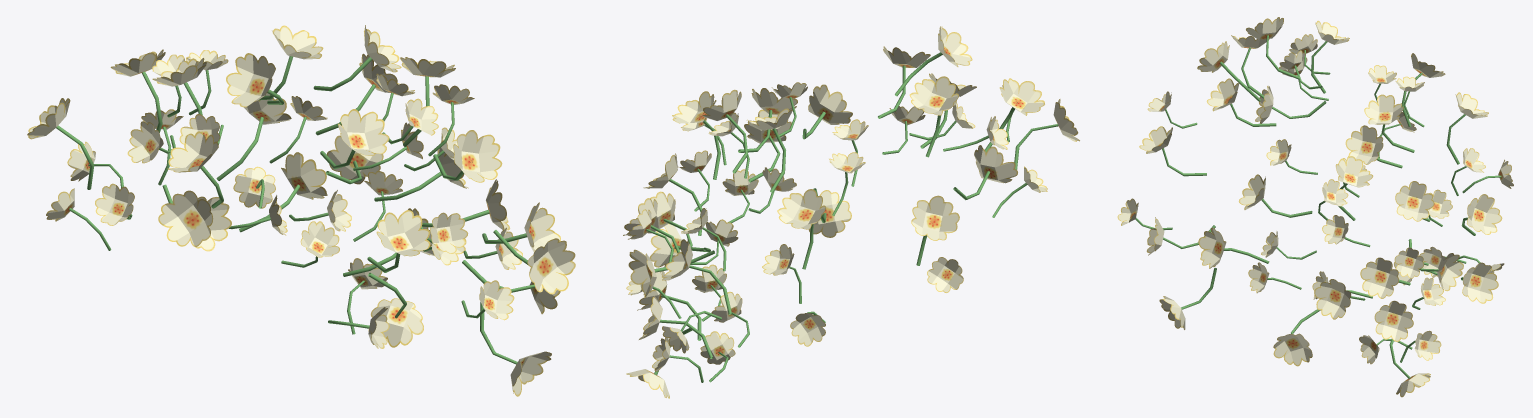
File: strawberry_flowers.glb
3 renders of one model, left to right at view 1: azimuth 30°, elevation 25°; view 2: azimuth 150°, elevation 25°; view 3: azimuth 270°, elevation 25°, orthographic. The views are drawn at different scales.
Parts seen in each view (by area): view 1: flower_petals, flower_calyx; view 2: flower_petals, flower_calyx; view 3: flower_petals, flower_calyx.
Boxes of the visible parts, x1=… form: flower_petals: x1=27, y1=25, x2=575, y2=396; flower_calyx: x1=56, y1=56, x2=534, y2=364; flower_petals: x1=623, y1=26, x2=1079, y2=398; flower_calyx: x1=646, y1=51, x2=1058, y2=382; flower_petals: x1=1117, y1=17, x2=1513, y2=397; flower_calyx: x1=1135, y1=35, x2=1501, y2=378.
Bounding box in the file's own units: 11.93 × 10.45 × 12.59.
2 materials, 1 textured.
